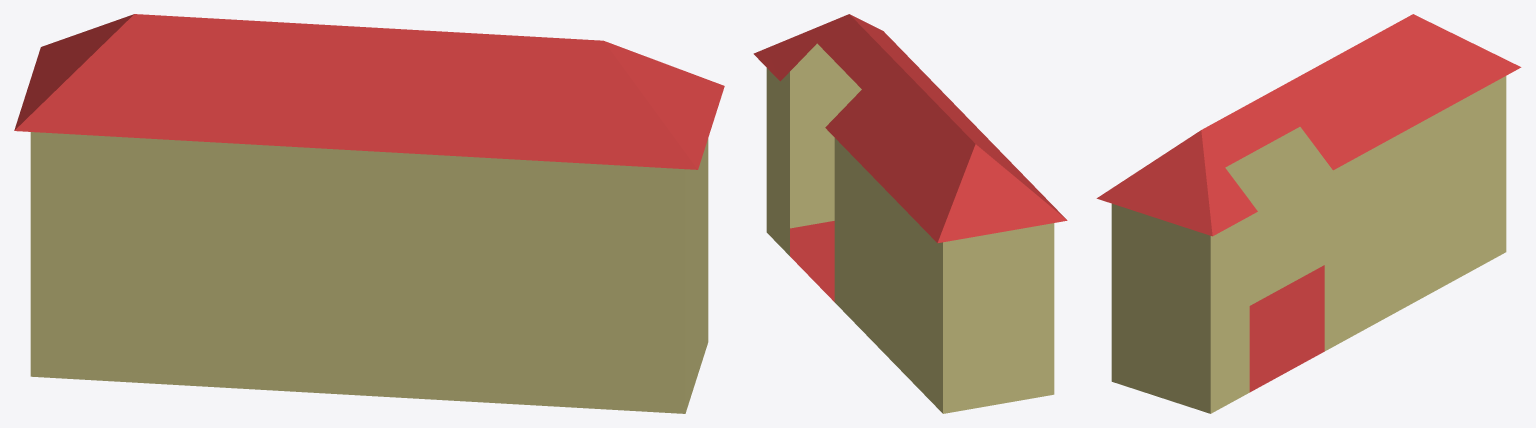
The picture shows the model from 3 angles, left to right: view 1: azimuth 30°, elevation 25°; view 2: azimuth 150°, elevation 25°; view 3: azimuth 270°, elevation 25°; orthographic projection. The views are drawn at different scales.
Visible parts, largest first — view 1: group_5, group_3; view 2: group_5, group_3, group_6; view 3: group_5, group_3, group_6, group_4.
Boxes of the visible parts, x1,y1,x2,y2 form: group_5: (30,132,708,413); group_3: (14,14,724,169); group_5: (766,43,1054,413); group_3: (753,14,1067,243); group_6: (790,221,834,301); group_5: (1111,76,1506,413); group_3: (1096,14,1521,236); group_6: (1249,265,1324,392); group_4: (1212,70,1488,234).
Bounding box in the file's own units: 34.08 × 29.58 × 18.75.
